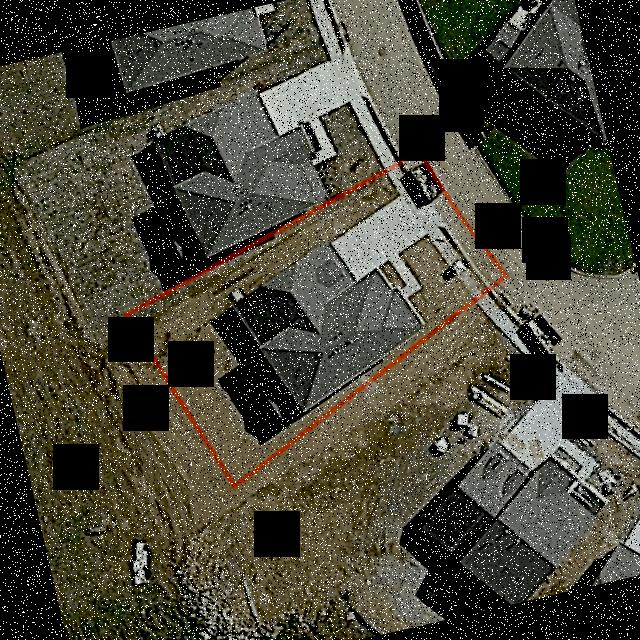Driveway: (330, 197, 424, 301)
Extra Driveway: (398, 184, 437, 233)
Extra Sidewalk: (428, 226, 481, 298)
House: (232, 244, 420, 411)
